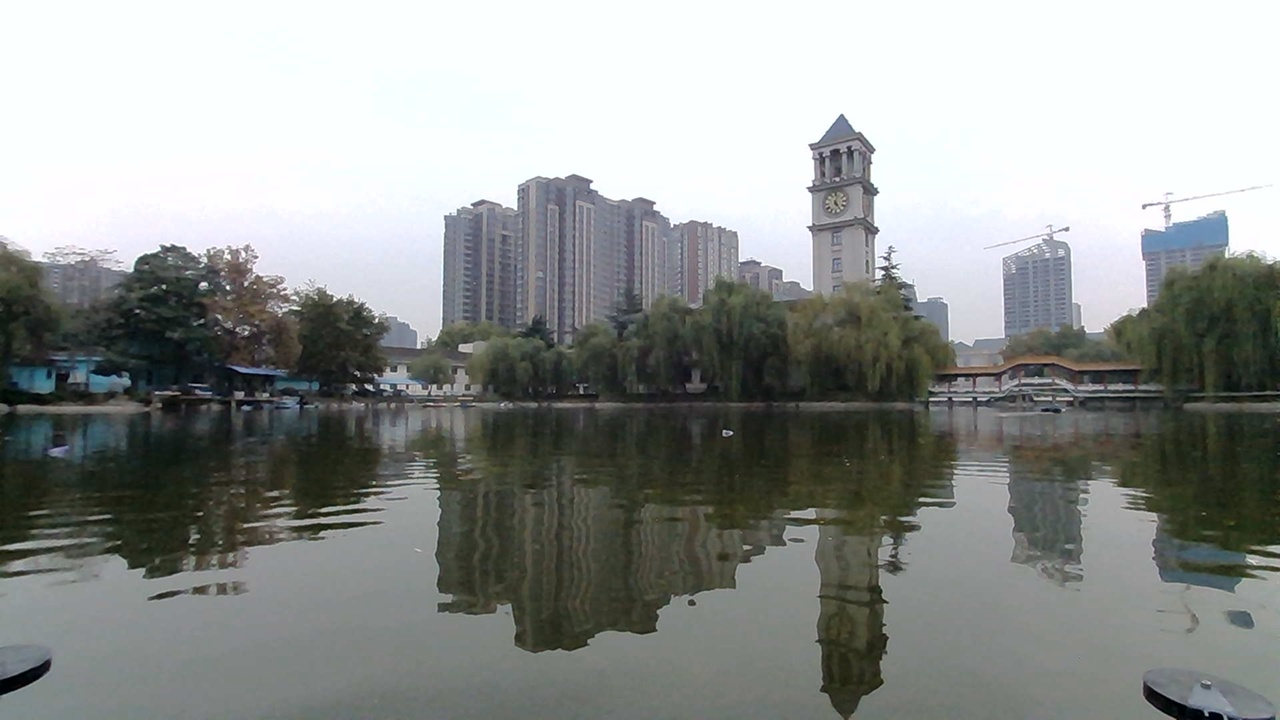bottle: (30, 428, 86, 470), (707, 417, 746, 447)
